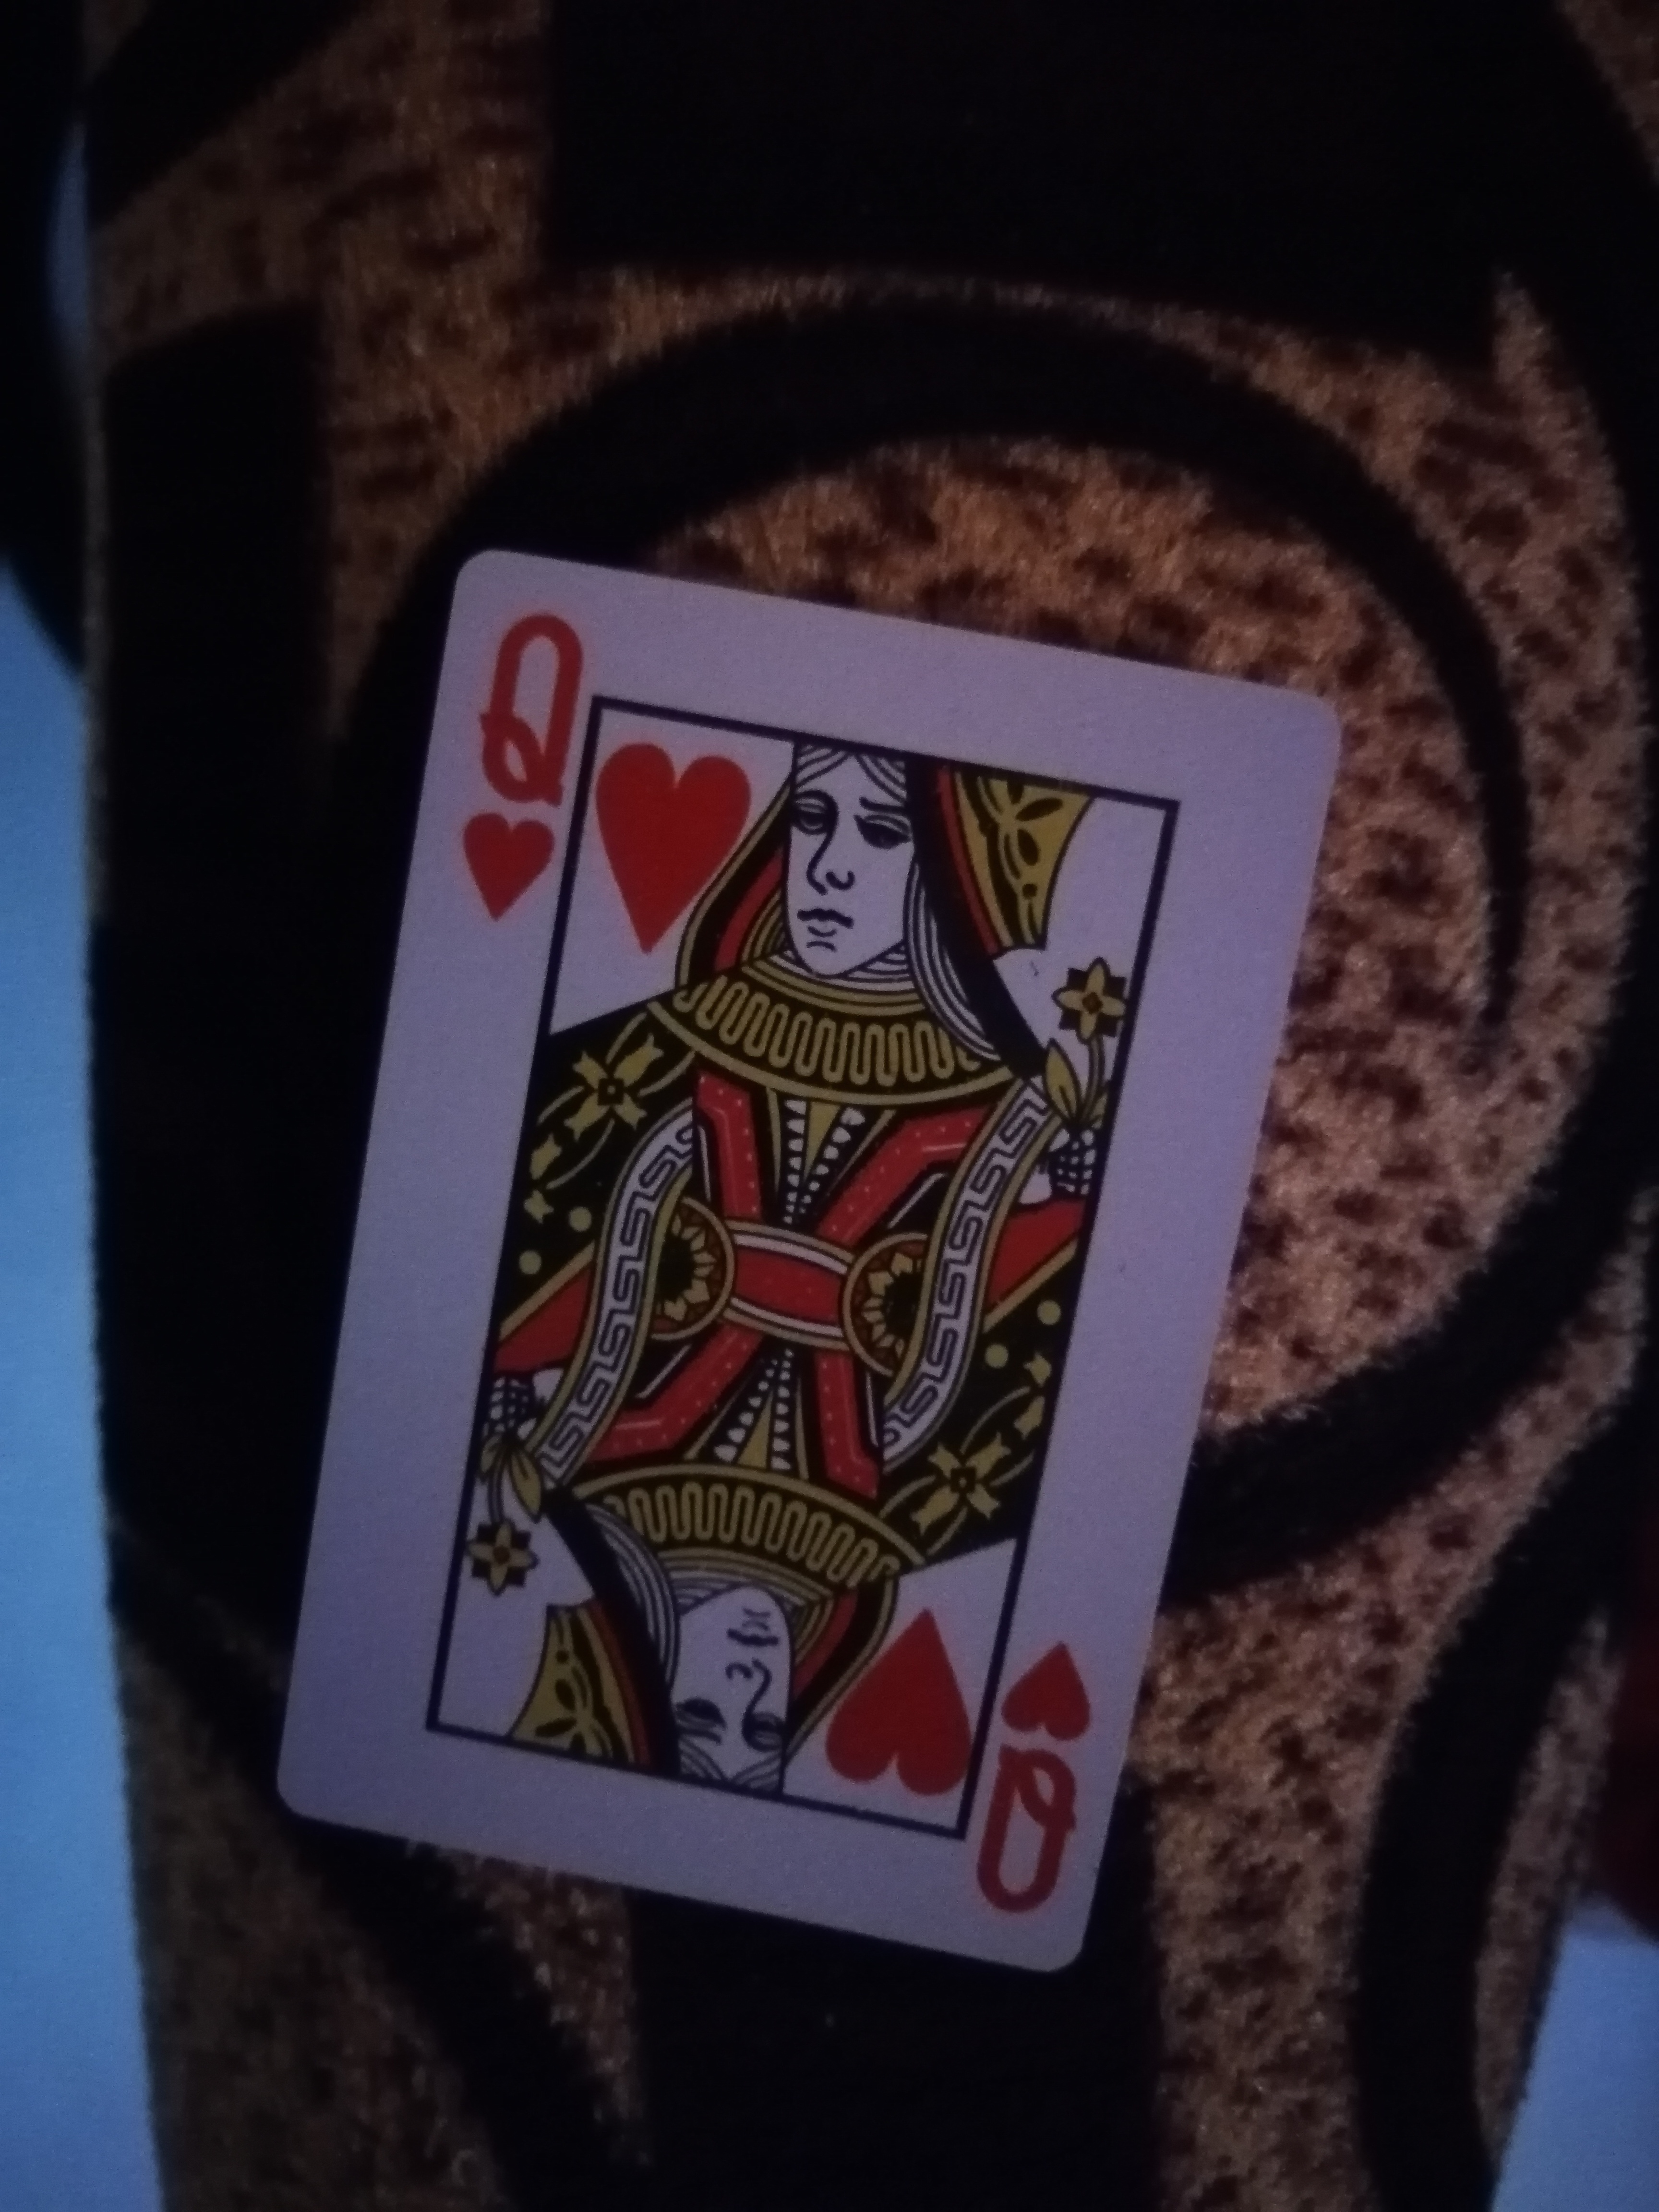queen: (322, 531, 1310, 1982)
